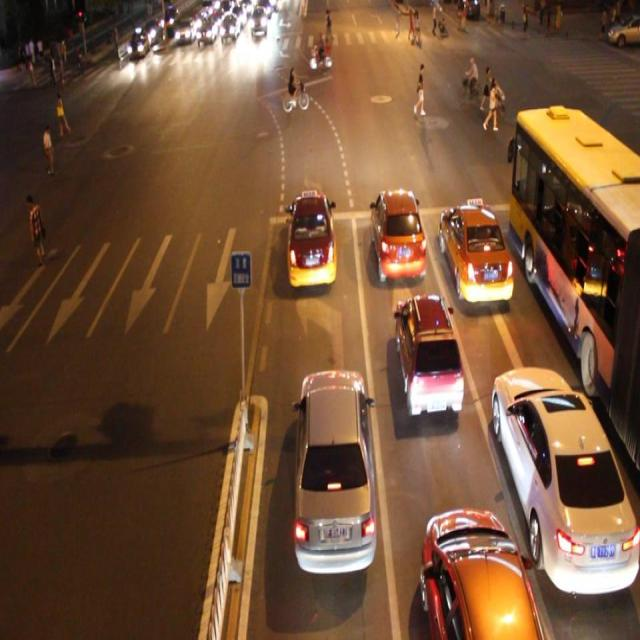car: (491, 365, 640, 593), (292, 364, 375, 576), (420, 503, 544, 640), (394, 295, 462, 414), (440, 200, 513, 306), (368, 188, 426, 283), (286, 190, 336, 289)
van: (513, 106, 640, 471)
